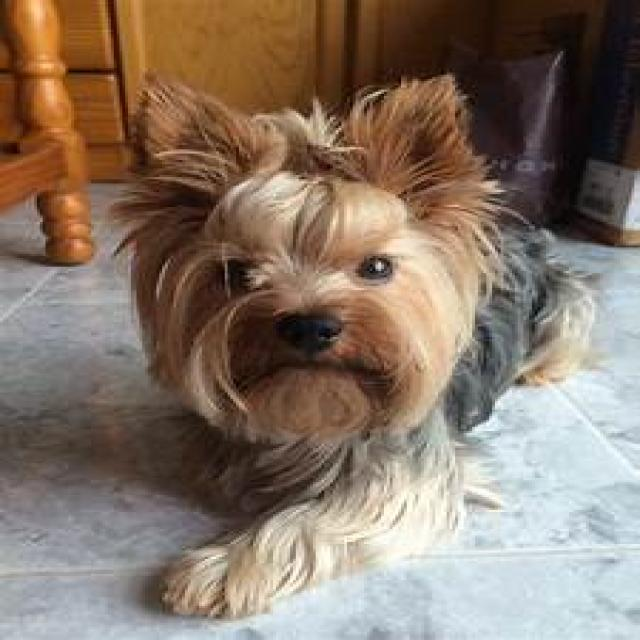dog: (114, 77, 600, 621)
